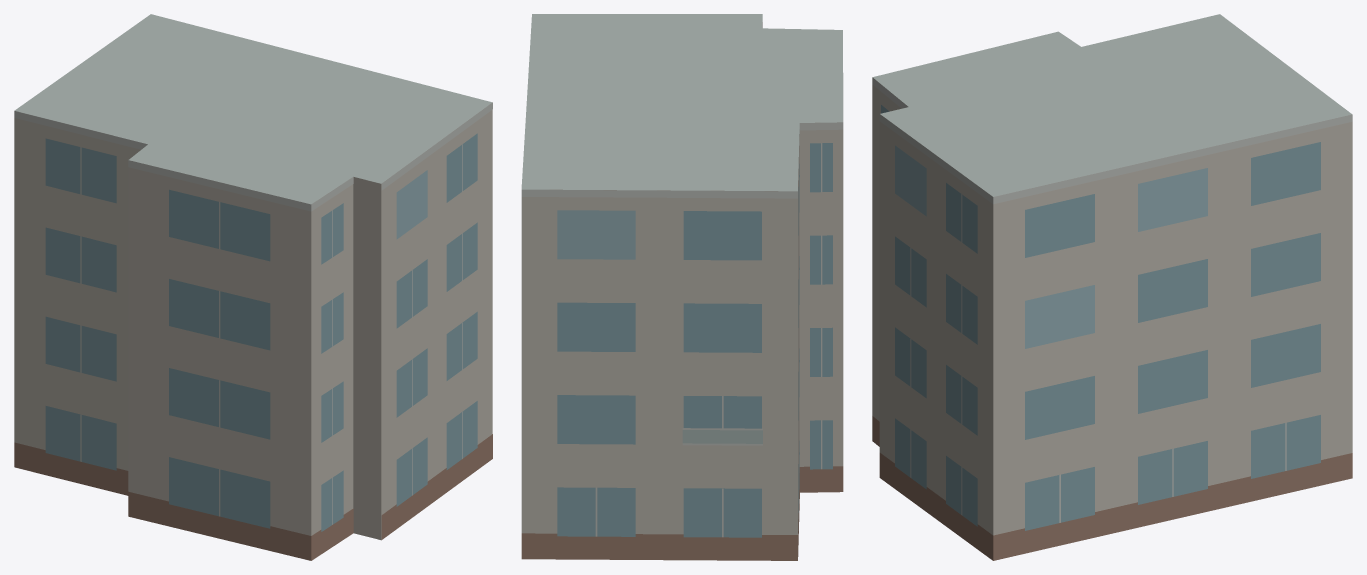
Rendered from survey-upis-32695343.glb.
The picture shows the model from 3 angles, left to right: view 1: azimuth 30°, elevation 25°; view 2: azimuth 150°, elevation 25°; view 3: azimuth 270°, elevation 25°; orthographic projection. The views are drawn at different scales.
Visible parts, largest first — view 1: survey-upis-32695343.tmp; view 2: survey-upis-32695343.tmp; view 3: survey-upis-32695343.tmp.
Boxes of the visible parts, x1,y1,x2,y2 form: survey-upis-32695343.tmp: (14,14,492,560); survey-upis-32695343.tmp: (521,14,843,560); survey-upis-32695343.tmp: (872,14,1352,560).
Size of the model in its own units: 13.17 by 12.2 by 14.6.
